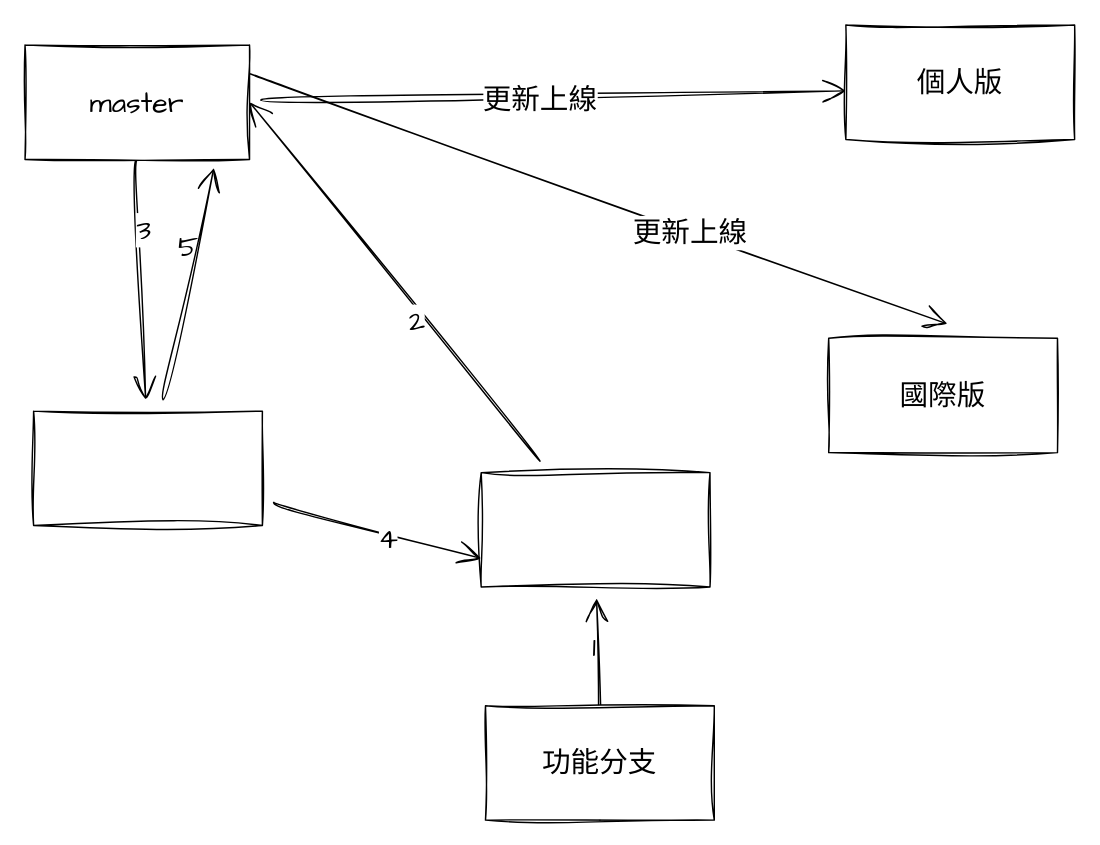
The diagram is 1100 pixels wide and 845 high, and some of its shapes have lost their labels. The centre of each missing label's shape, as x and y in pixels:
"rc" belongs at pixel 595 529.
"translate" belongs at pixel 147 468.
